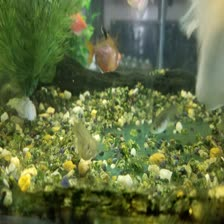Guppy: (65, 114, 102, 169), (147, 90, 186, 137)
Plano: (66, 8, 83, 34)
Transparente: (86, 20, 131, 71)
